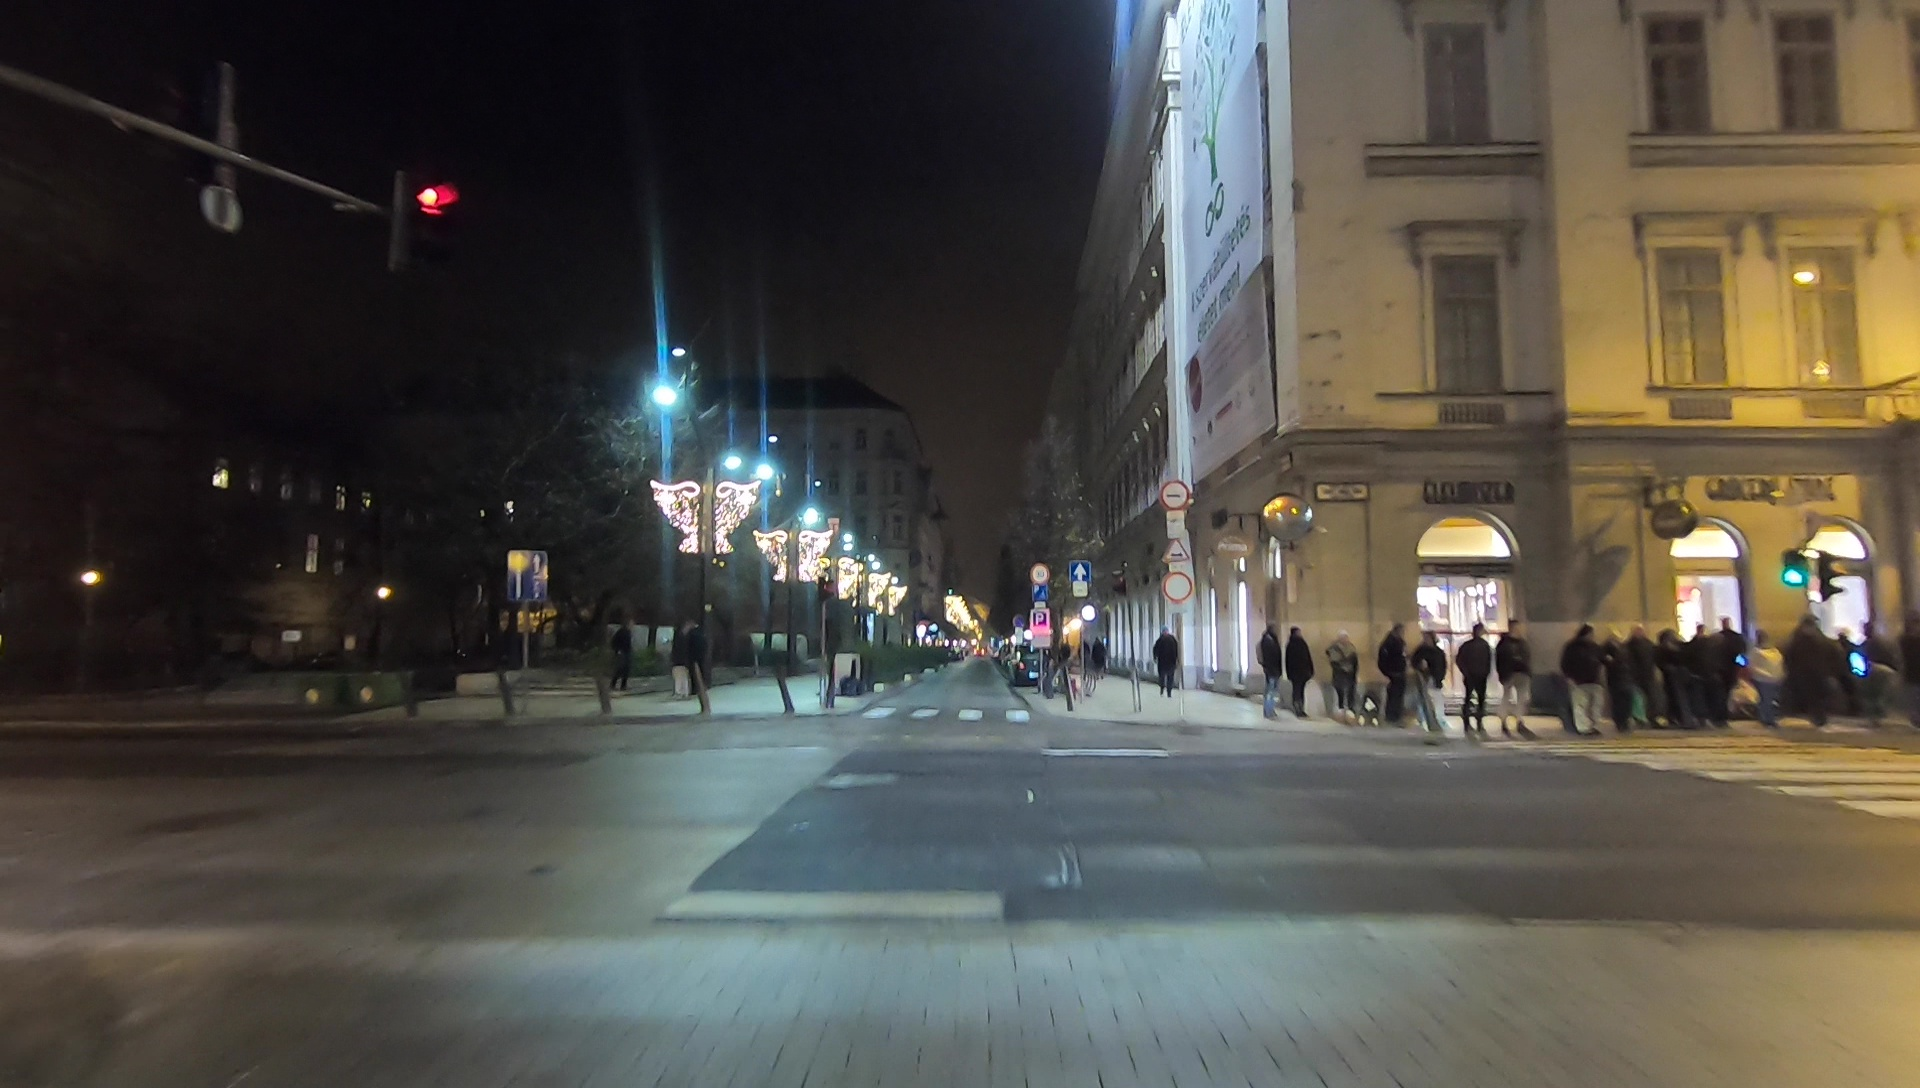person: (1793, 617, 1841, 739), (1621, 624, 1667, 745), (1497, 623, 1538, 743), (1565, 623, 1606, 739), (1458, 624, 1493, 749), (1682, 624, 1719, 734), (1414, 628, 1447, 739), (1743, 630, 1782, 721), (669, 617, 701, 700), (1380, 628, 1406, 723), (1332, 636, 1358, 724), (1288, 628, 1314, 719), (1260, 624, 1280, 719), (1156, 636, 1180, 702), (610, 623, 630, 691)
